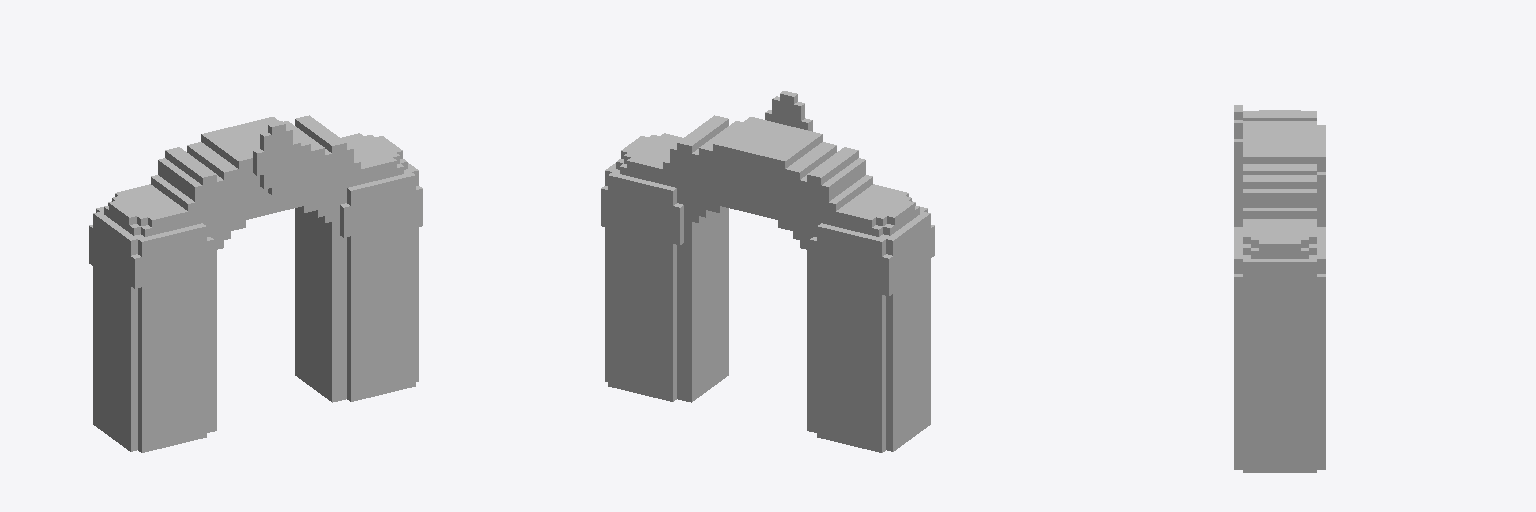
The model's file is Portal.obj.
The picture shows the model from 3 angles: view 1: azimuth 30°, elevation 25°; view 2: azimuth 150°, elevation 25°; view 3: azimuth 270°, elevation 25°; orthographic projection.
Visible parts, largest first — view 1: Default; view 2: Default; view 3: Default.
Part boxes in pixels (bbox=[...]): Default: bbox=[89, 115, 422, 452]; Default: bbox=[601, 91, 934, 452]; Default: bbox=[1234, 105, 1325, 472].
Bounding box in the file's own units: 4 × 3.9 × 1.1.